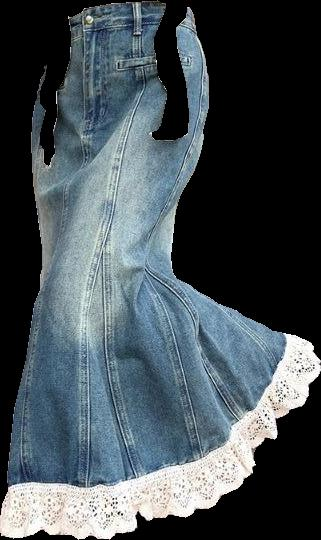Hemline: (1, 341, 320, 539)
Waistline: (42, 0, 193, 67)
